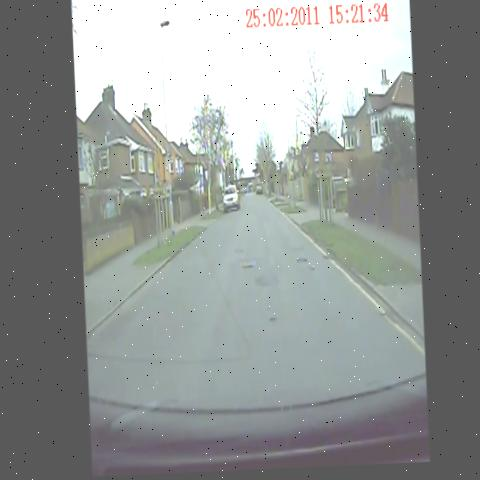pothole: (247, 266, 279, 297), (289, 251, 318, 282), (259, 306, 282, 335), (234, 253, 255, 279), (317, 254, 337, 271), (228, 247, 247, 264)
